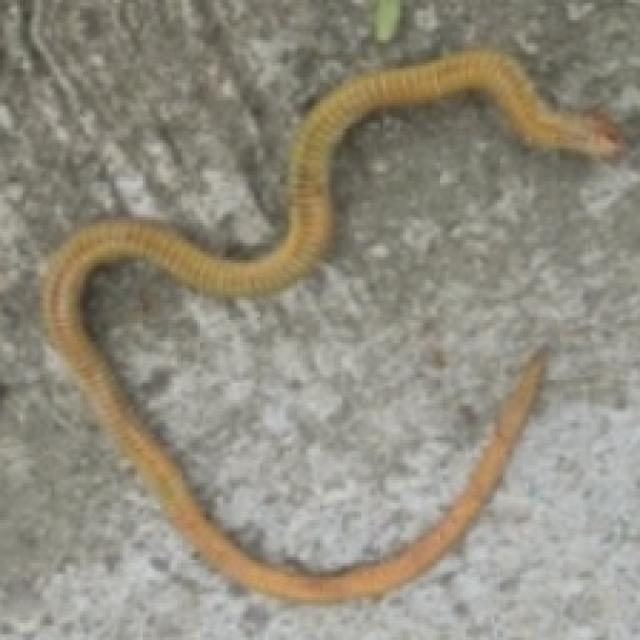gervais worm snake: (43, 49, 620, 600)
